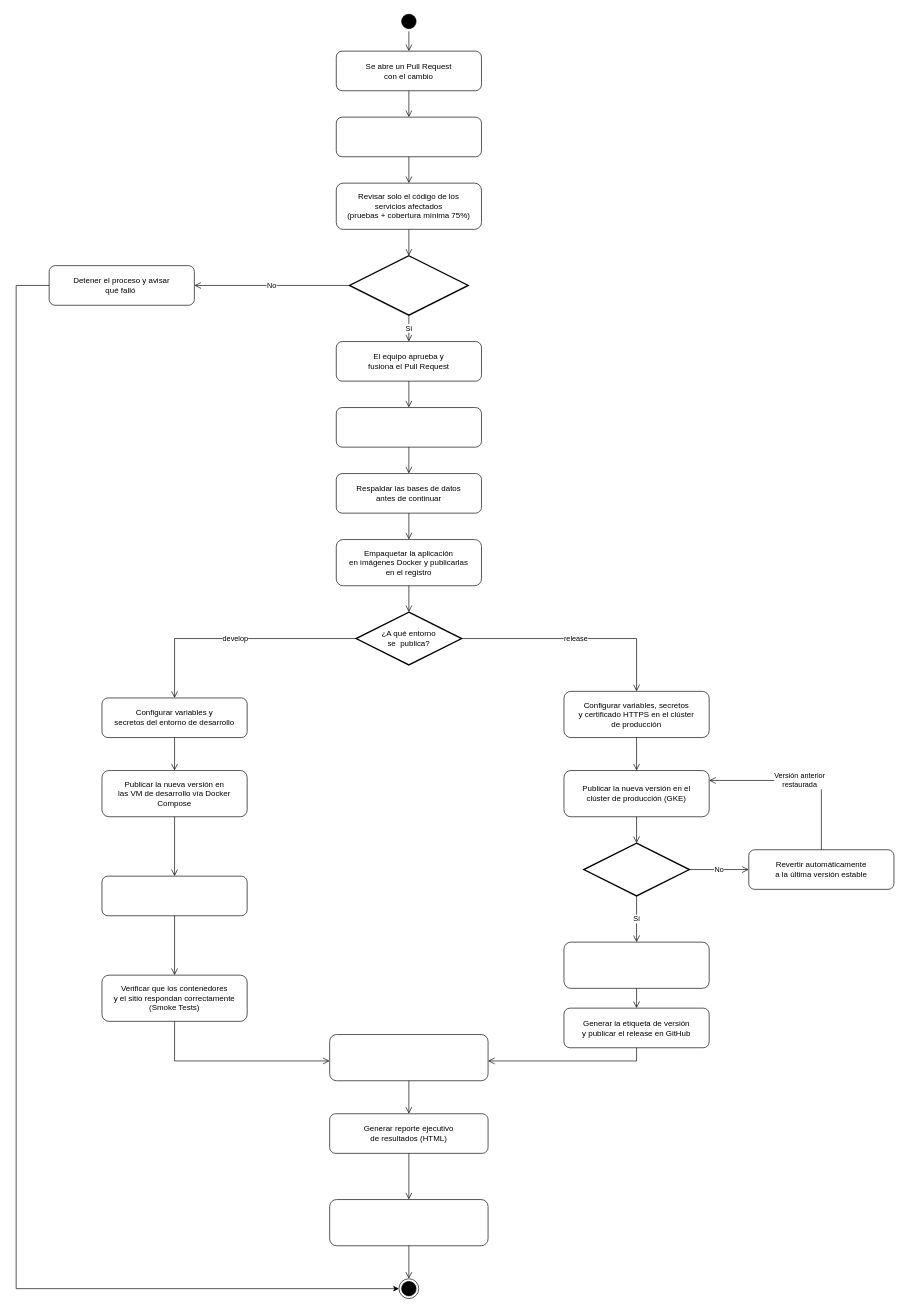
This 906x1310 diagram has some shape labels left out. The box of each missing label's shape, as (x1, y1, x2, y2) in pixels:
Detecta qué servicios fueron modificados: (336, 116, 481, 157)
Monitorear continuamente el estado del sistema (logs y métricas en vivo): (329, 1199, 488, 1246)
Renovar certificado HTTPS del sitio si es necesario: (101, 875, 247, 916)
Simular usuarios reales para medir el comportamiento bajo carga (Locust): (329, 1034, 488, 1081)
Verificar que el sitio responda correctamente sobre HTTPS (Smoke Tests): (563, 941, 709, 988)
Volver a ejecutar todas las pruebas de los servicios afectados: (336, 407, 481, 447)
¿Los nuevos servicios arrancaron bien?: (583, 842, 690, 896)
¿Todo pasa?: (348, 255, 469, 315)
